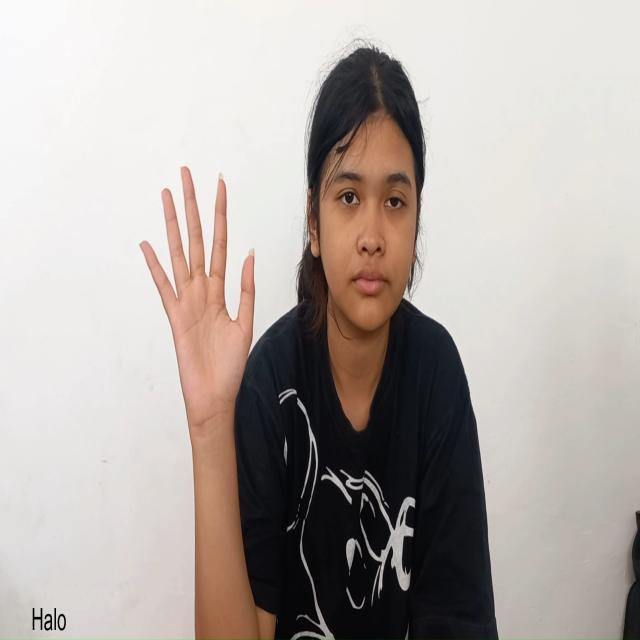Halo -BISINDO-: (137, 145, 263, 476)
